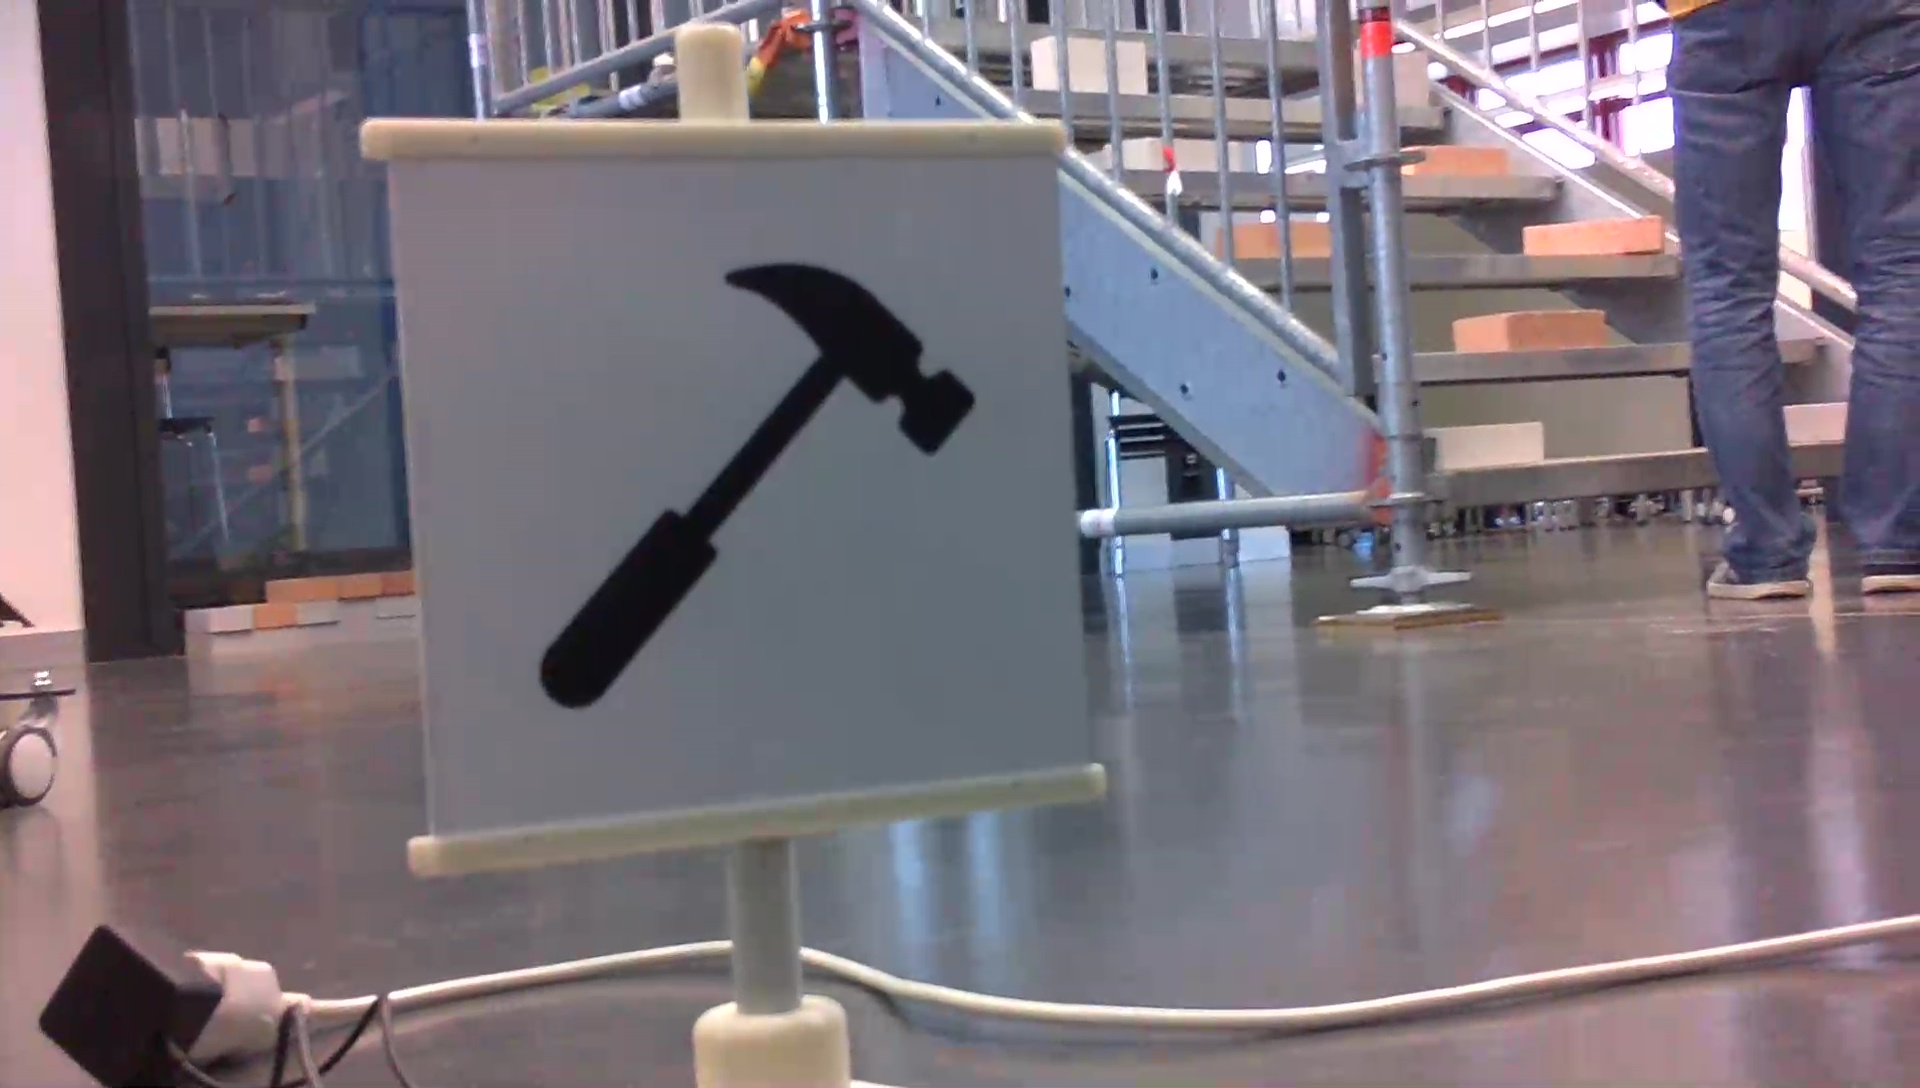brick: (1457, 310, 1602, 351), (1524, 218, 1660, 255), (1431, 426, 1540, 466), (1406, 145, 1510, 185), (1785, 404, 1847, 443), (1393, 51, 1428, 106)
hammer: (527, 255, 988, 720)
